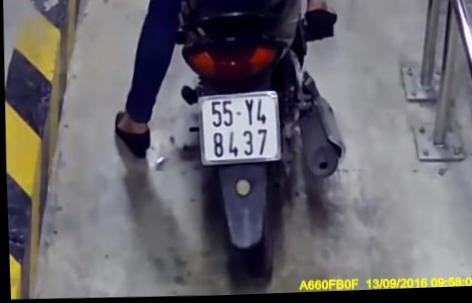LP: (193, 87, 286, 170)
